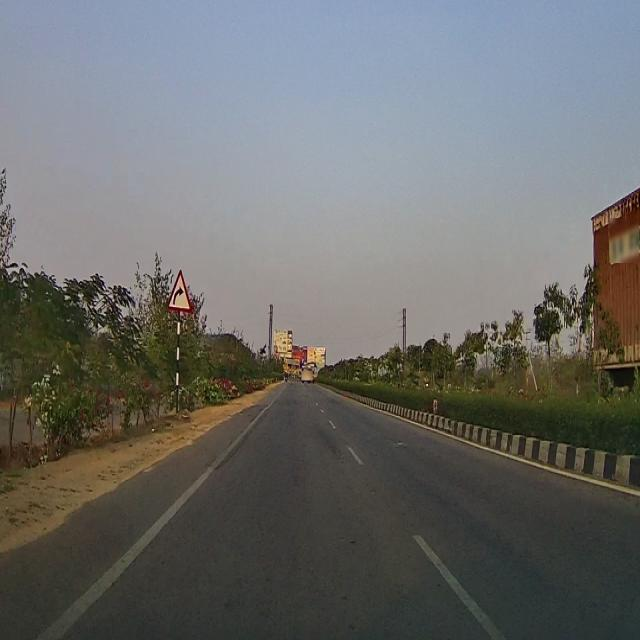right-hand-curve: (166, 266, 192, 313)
